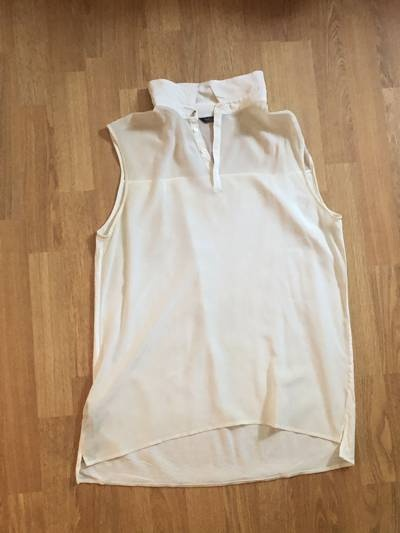Blouse: (38, 58, 363, 505)
